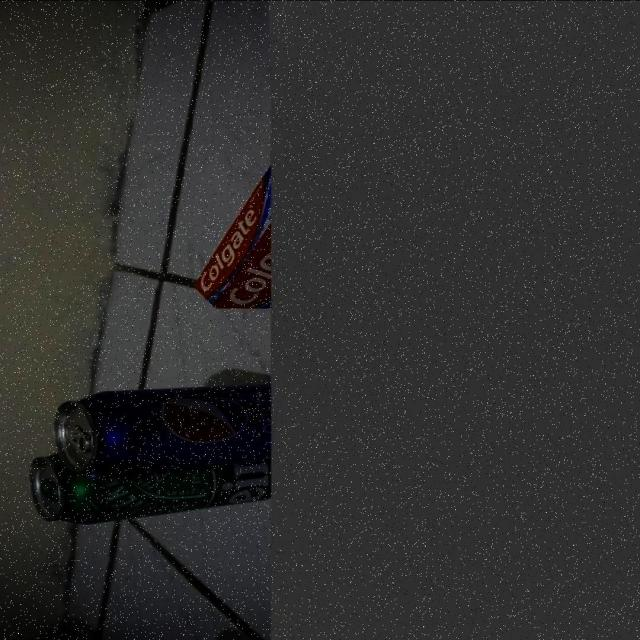BeerCan: (28, 474, 264, 521)
SodaCan: (49, 387, 263, 473)
Toothpaste: (186, 202, 266, 312)
